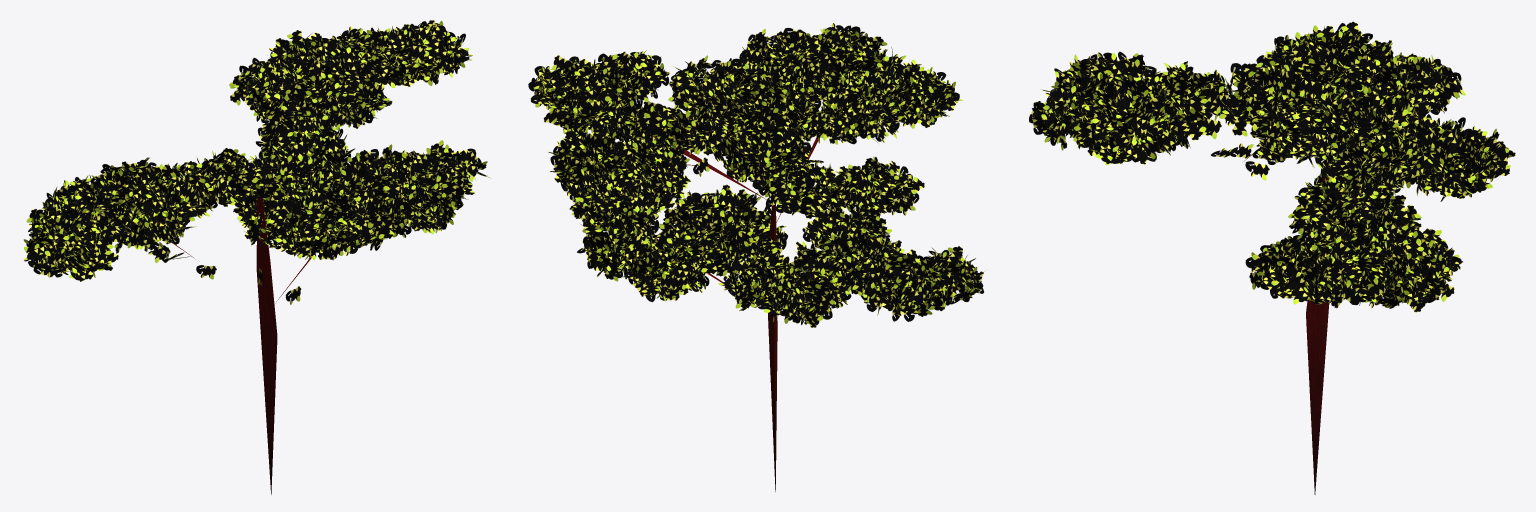
File: acacia_flat_v03_LOD1.glb
3 renders of one model, left to right at view 1: azimuth 30°, elevation 25°; view 2: azimuth 150°, elevation 25°; view 3: azimuth 270°, elevation 25°, orthographic. The views are drawn at different scales.
Visible parts, largest first — view 1: acacia_flat_v03_LOD1; view 2: acacia_flat_v03_LOD1; view 3: acacia_flat_v03_LOD1.
Part boxes in pixels (bbox=[...]): acacia_flat_v03_LOD1: bbox=[23, 20, 490, 494]; acacia_flat_v03_LOD1: bbox=[528, 23, 983, 491]; acacia_flat_v03_LOD1: bbox=[1029, 21, 1515, 494].
Bounding box in the file's own units: 12.63 × 11.64 × 10.62.
Materials: 2 (2 with a texture image).
